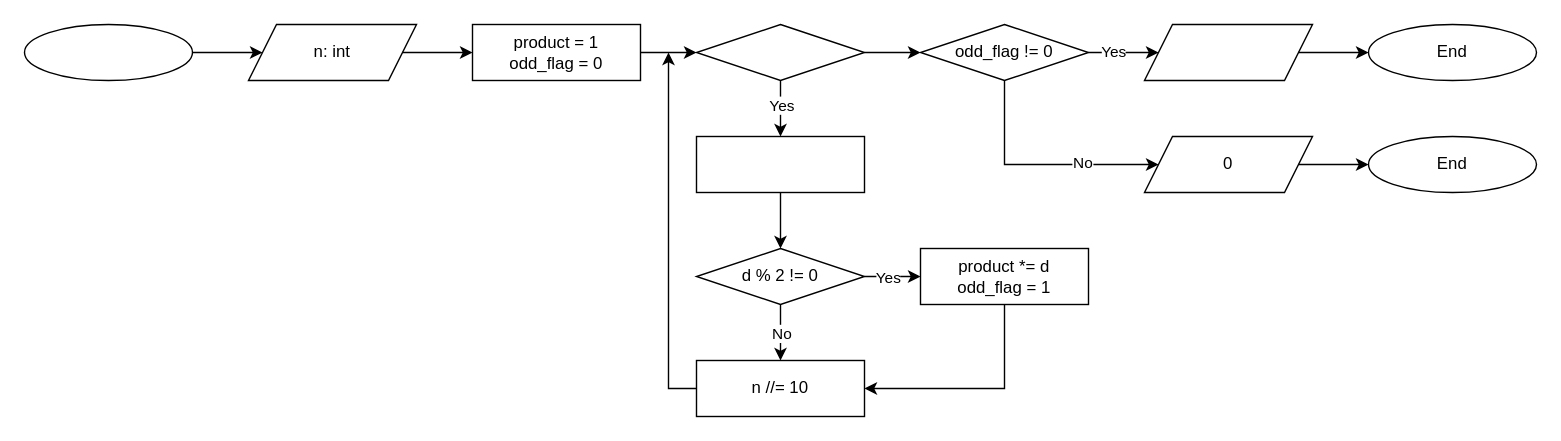
This 1561x441 diagram has some shape labels left out. Each missing label, with the centre of its shape:
"d = n % 10" goes at [779,163].
"n > 0" goes at [779,51].
"product" goes at [1227,51].
"Start" goes at [107,51].
